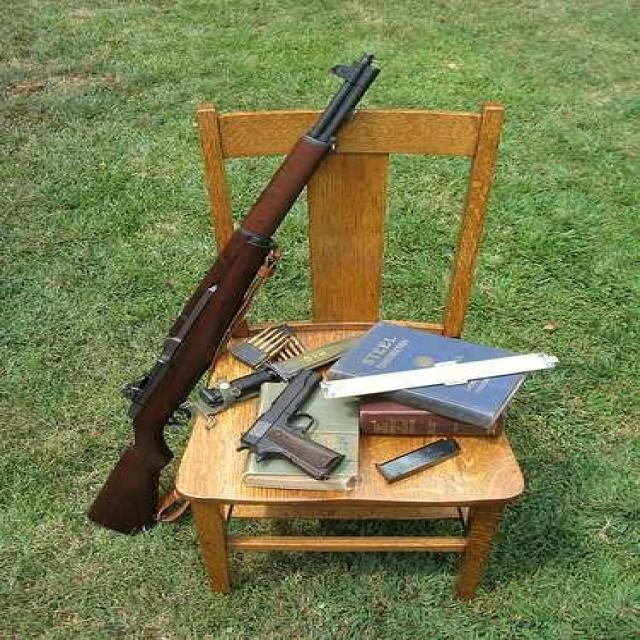heavyweapon: (85, 49, 387, 543)
